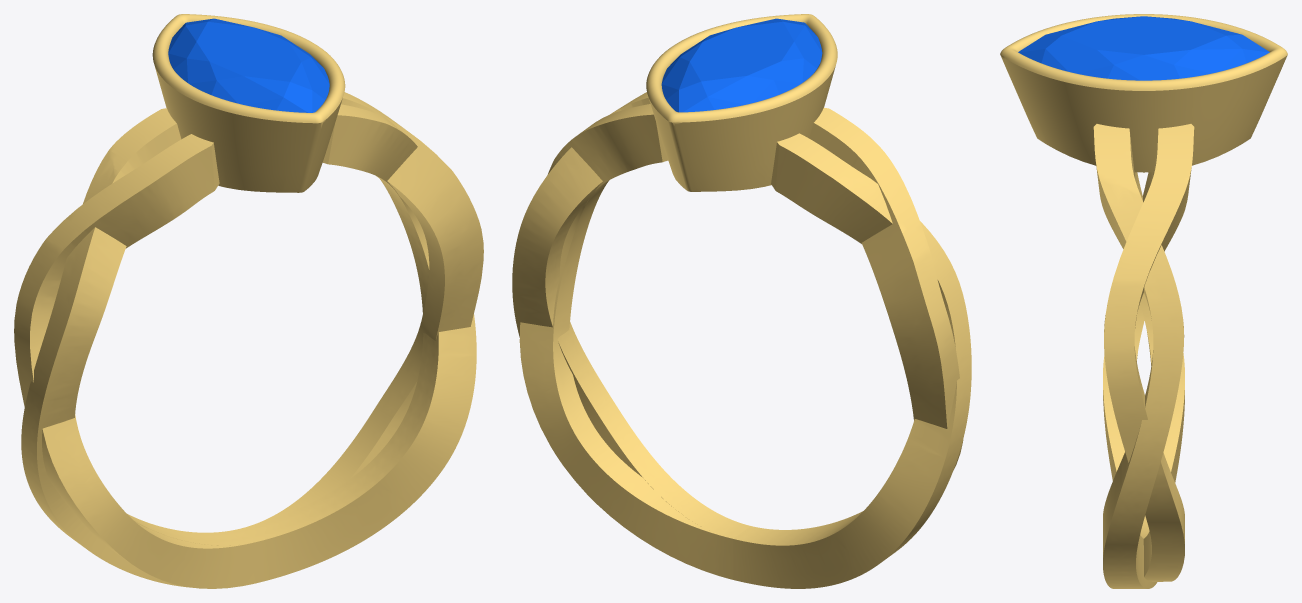
Rendered from bluesapphire-marquise-yellowgold-bezelset-twist-nosidestones.glb.
The picture shows the model from 3 angles, left to right: view 1: azimuth 30°, elevation 25°; view 2: azimuth 150°, elevation 25°; view 3: azimuth 270°, elevation 25°; orthographic projection.
Visible parts, largest first — view 1: metal.002, stone; view 2: metal.002, stone; view 3: metal.002, stone.
Boxes of the visible parts, x1=… form: metal.002: x1=14, y1=14, x2=483, y2=588; stone: x1=168, y1=18, x2=329, y2=112; metal.002: x1=512, y1=14, x2=971, y2=588; stone: x1=661, y1=18, x2=822, y2=112; metal.002: x1=1000, y1=14, x2=1287, y2=588; stone: x1=1018, y1=16, x2=1269, y2=80.
Bounding box in the file's own units: 19.97 × 22.84 × 11.31.
